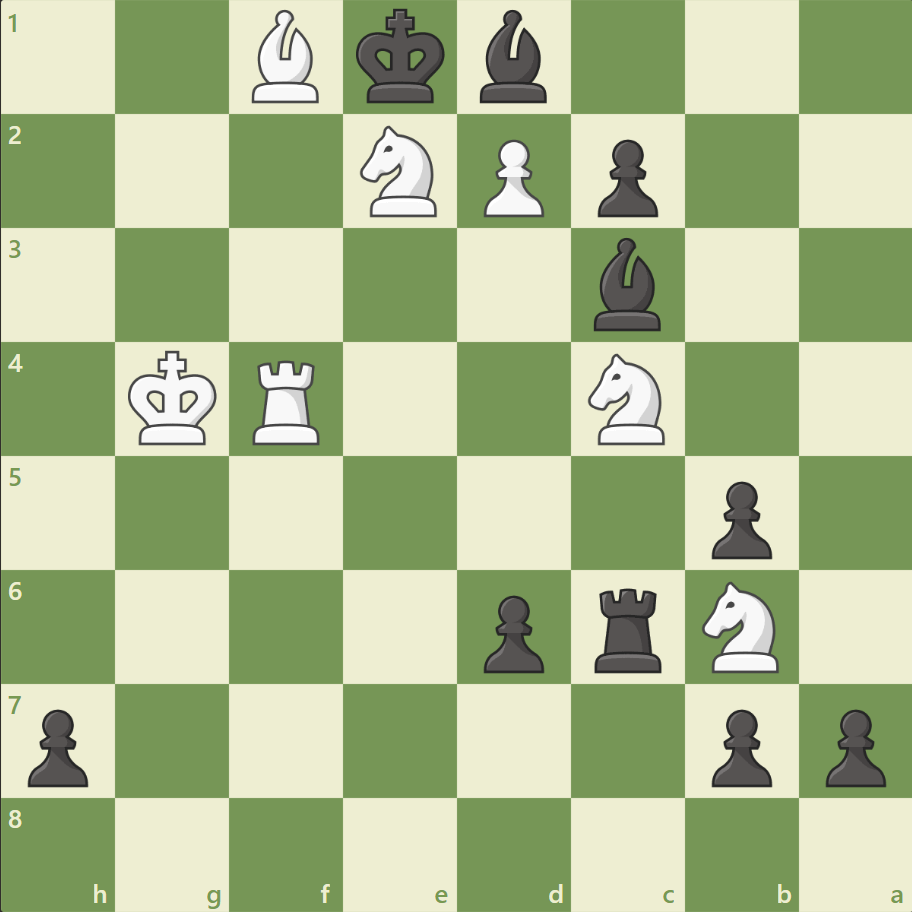B: (244, 6, 328, 109)
K: (124, 344, 224, 452)
N: (351, 121, 449, 223), (692, 575, 789, 677), (579, 348, 676, 450)
P: (474, 132, 549, 223)
R: (246, 352, 329, 449)
b: (585, 233, 669, 336), (471, 6, 555, 109)
k: (351, 4, 451, 112)
p: (701, 700, 776, 791), (20, 700, 95, 791), (474, 586, 549, 677), (701, 473, 776, 564), (815, 700, 889, 791), (588, 132, 662, 223)
r: (587, 579, 670, 676)
